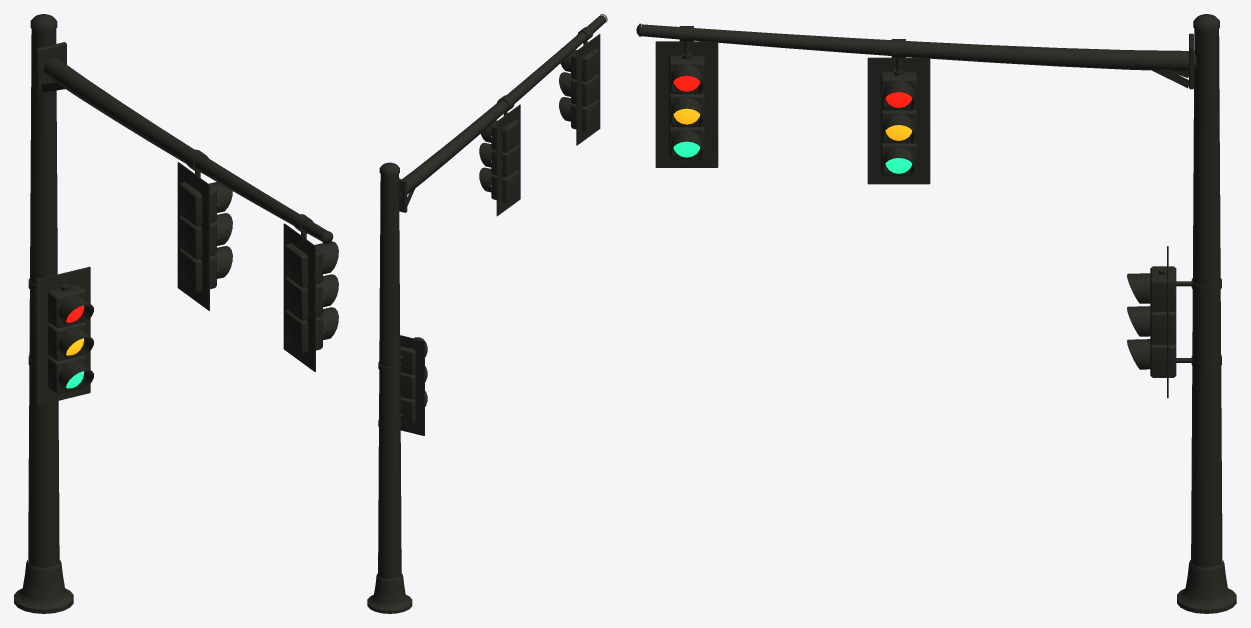
File: traffic_signal.glb
The picture shows the model from 3 angles, left to right: view 1: azimuth 30°, elevation 25°; view 2: azimuth 150°, elevation 25°; view 3: azimuth 270°, elevation 25°; orthographic projection. The views are drawn at different scales.
Visible parts, largest first — view 1: traffic_signal; view 2: traffic_signal; view 3: traffic_signal.
Boxes of the visible parts, x1=… form: traffic_signal: x1=14, y1=14, x2=338, y2=613; traffic_signal: x1=367, y1=14, x2=607, y2=613; traffic_signal: x1=636, y1=14, x2=1236, y2=613.
Size of the model in its own units: 0.67 by 6.4 by 5.95.
